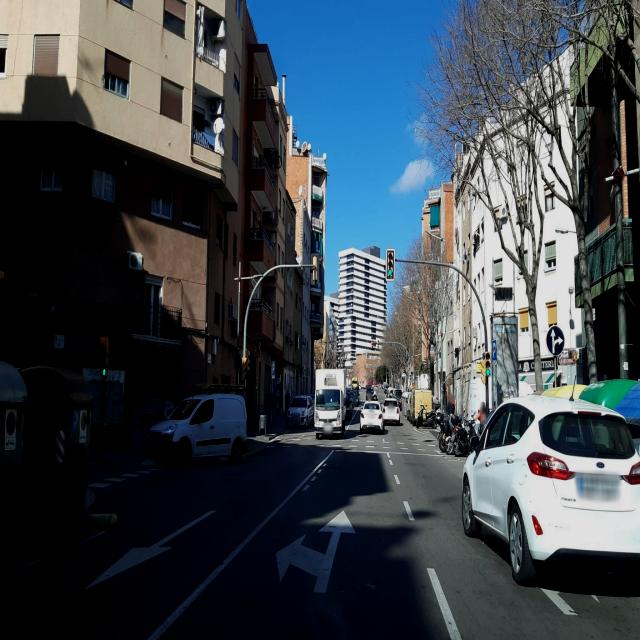bike: (445, 417, 478, 456)
car: (461, 390, 640, 586), (144, 390, 249, 470), (286, 394, 314, 430), (359, 401, 384, 435), (382, 398, 401, 426), (428, 408, 443, 427)
